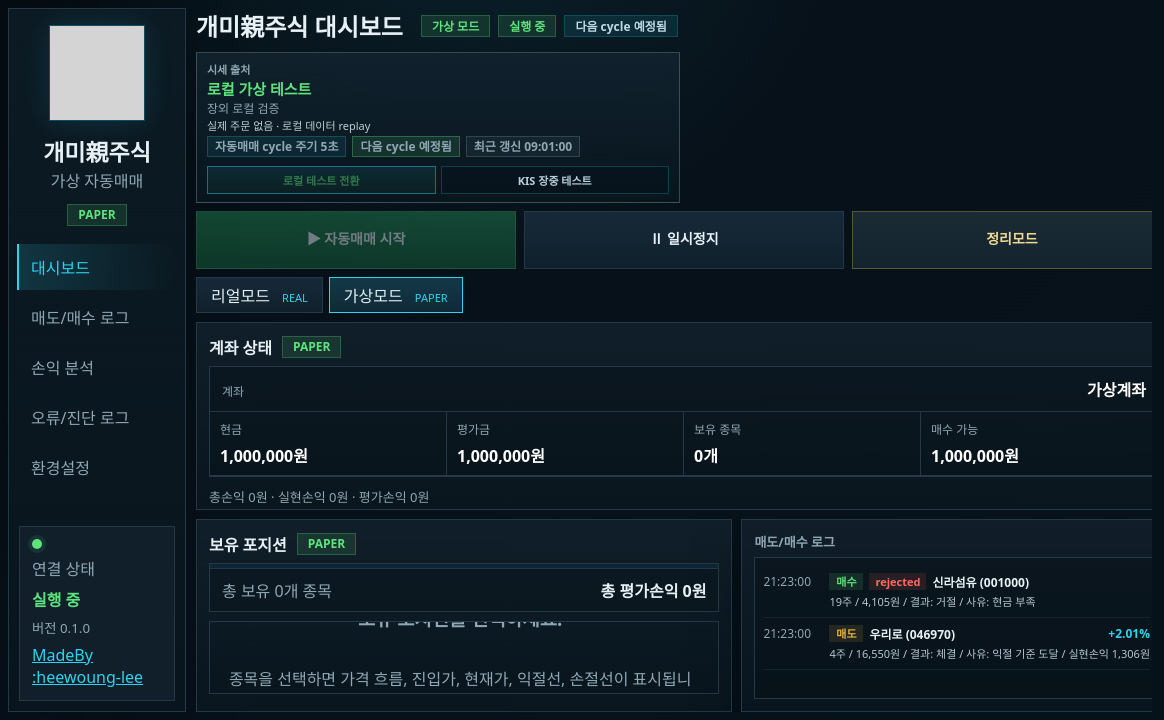
Scenario: Electron dashboard app shell › opens a dedicated buy/sell log view from the left menu
The width and height of the screenshot is (1164, 720).
Click the button "매도/매수 로그": (97, 317) [17,294,177,340]
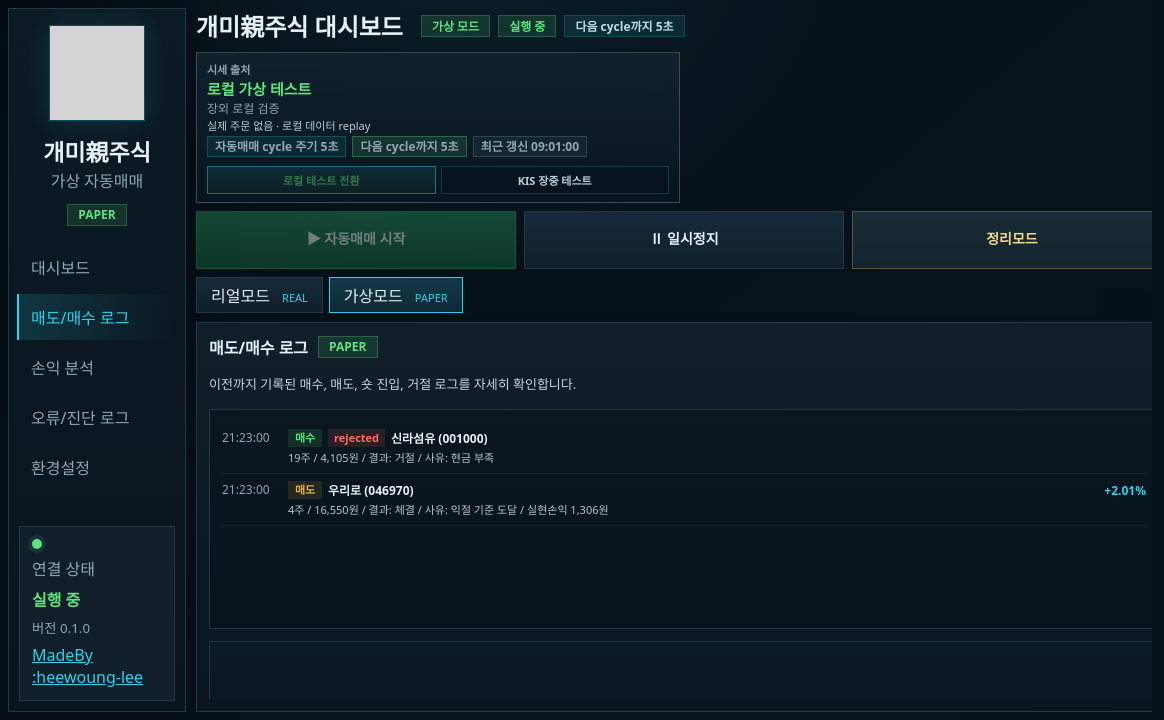
Expected: the heading "매도/매수 로그" is shown, [209,335,308,359]
Expected: the heading "보유 포지션" is gone
